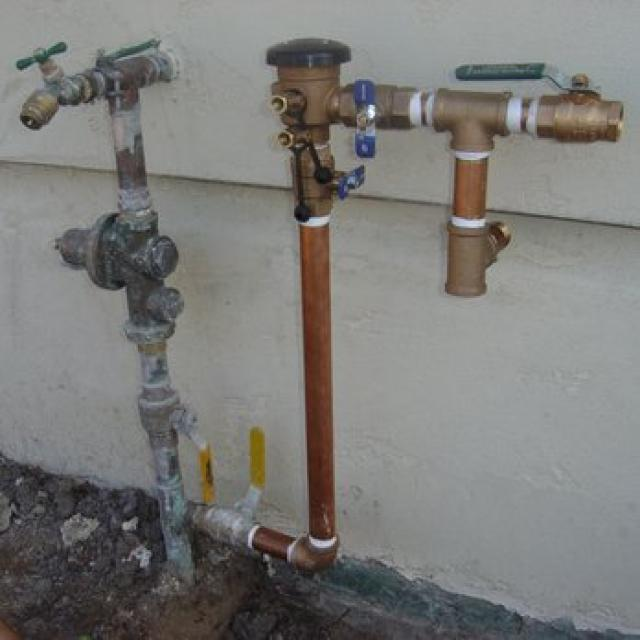Lever Handle Valve Threaded: (458, 62, 622, 144), (137, 382, 216, 507), (197, 425, 266, 551)
